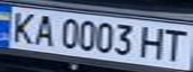0: (54, 16, 81, 50), (93, 19, 118, 55), (75, 18, 96, 52)
3: (112, 21, 139, 57)
A: (30, 12, 57, 47)
H: (136, 25, 169, 61)
K: (3, 9, 39, 45)
T: (160, 27, 193, 63)
